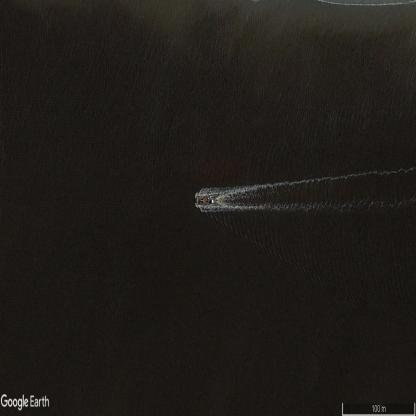ship: (197, 194, 219, 206)
